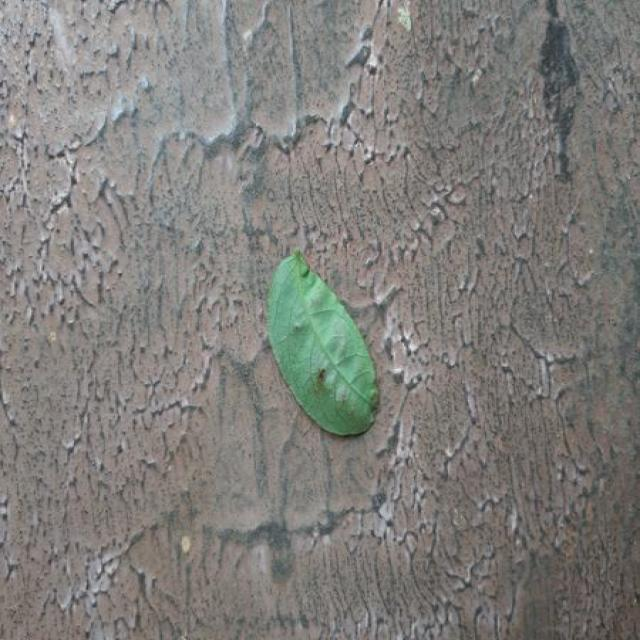amla: (267, 250, 375, 434)
disease in leaf: (268, 306, 378, 434)
